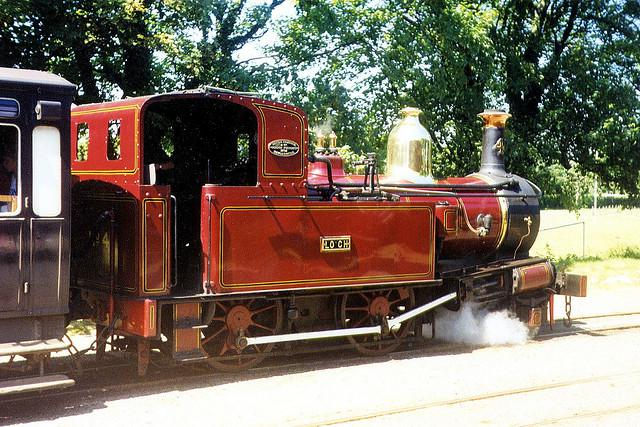Train: (1, 66, 587, 400)
